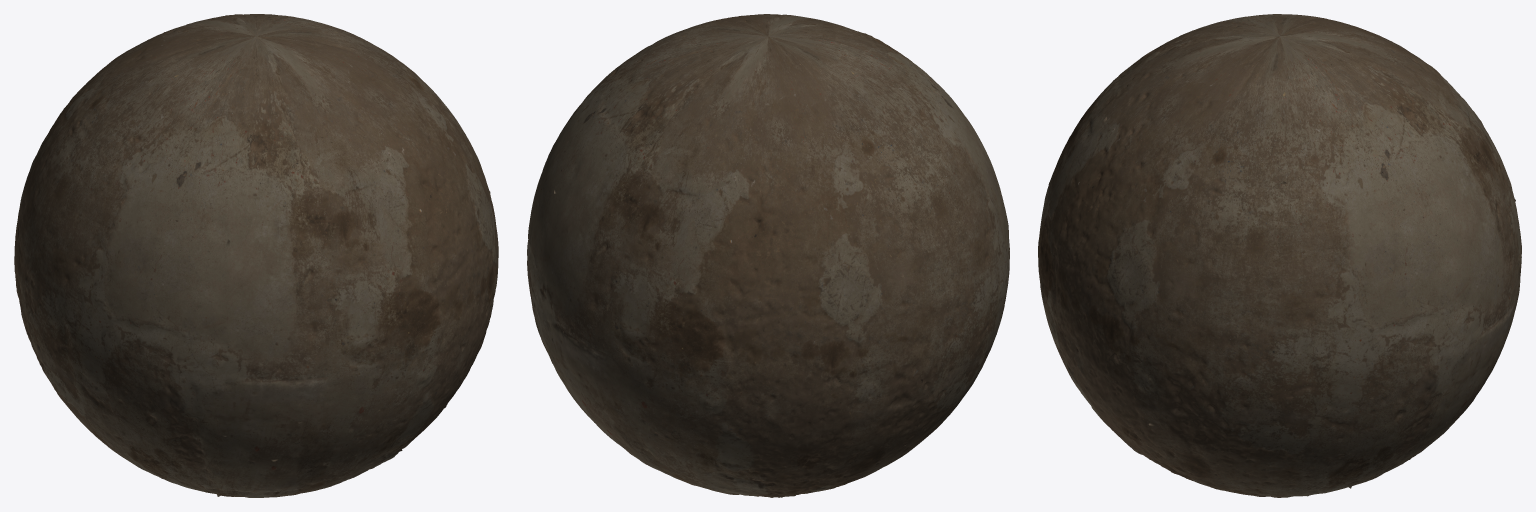
The model's file is concrete_floor_damaged_01_4k.gltf.
3 renders of one model, left to right at view 1: azimuth 30°, elevation 25°; view 2: azimuth 150°, elevation 25°; view 3: azimuth 270°, elevation 25°, orthographic.
Visible parts, largest first — view 1: sphere_gltf; view 2: sphere_gltf; view 3: sphere_gltf.
Boxes of the visible parts, left/top/right/bottom form: sphere_gltf: left=14, top=14, right=498, bottom=497; sphere_gltf: left=527, top=14, right=1009, bottom=497; sphere_gltf: left=1038, top=14, right=1521, bottom=497.
Size of the model in its own units: 5.1 by 5.1 by 5.1.
1 material, 1 textured.
